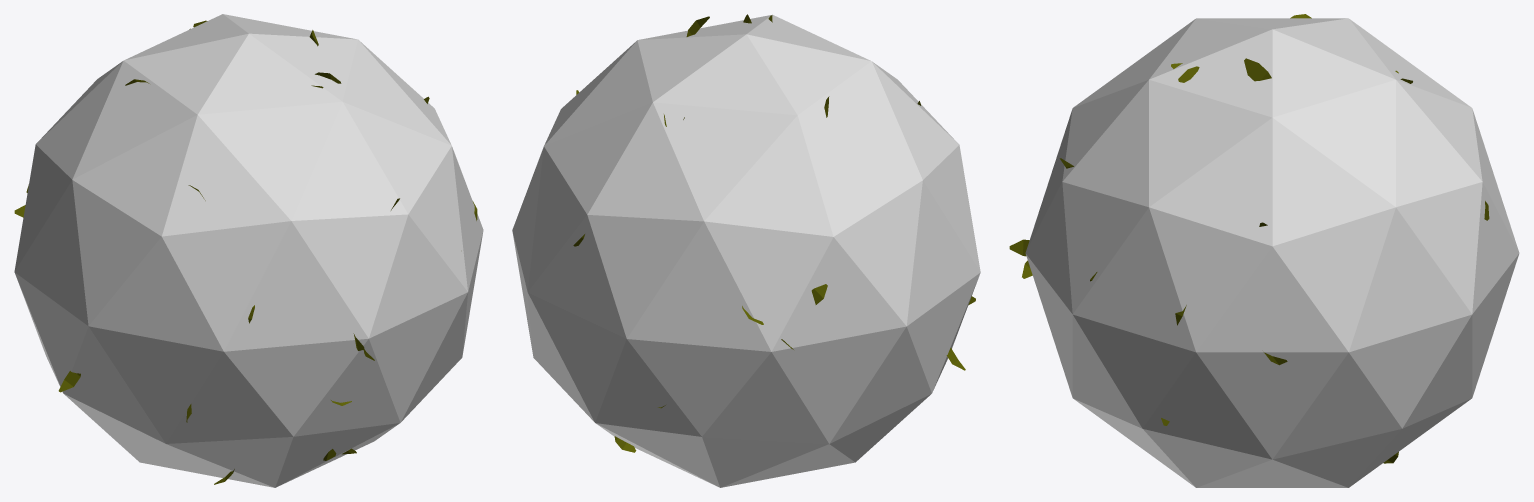
The model's file is mod_BG_Buisson_01.fbx.
The picture shows the model from 3 angles, left to right: view 1: azimuth 30°, elevation 25°; view 2: azimuth 150°, elevation 25°; view 3: azimuth 270°, elevation 25°; orthographic projection. The views are drawn at different scales.
Parts seen in each view (by area): view 1: Buisson; view 2: Buisson; view 3: Buisson.
Part boxes in pixels (bbox=[...]): Buisson: bbox=[14, 14, 483, 487]; Buisson: bbox=[512, 14, 980, 487]; Buisson: bbox=[1025, 18, 1519, 487].
Size of the model in its own units: 102 by 101 by 104.
